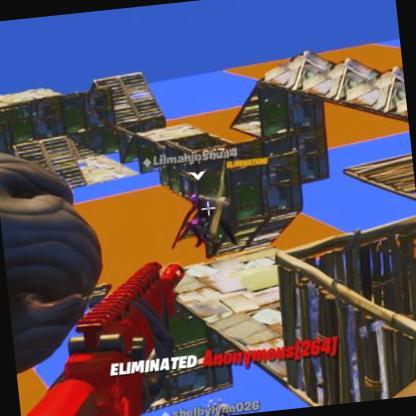person: (178, 189, 219, 254)
